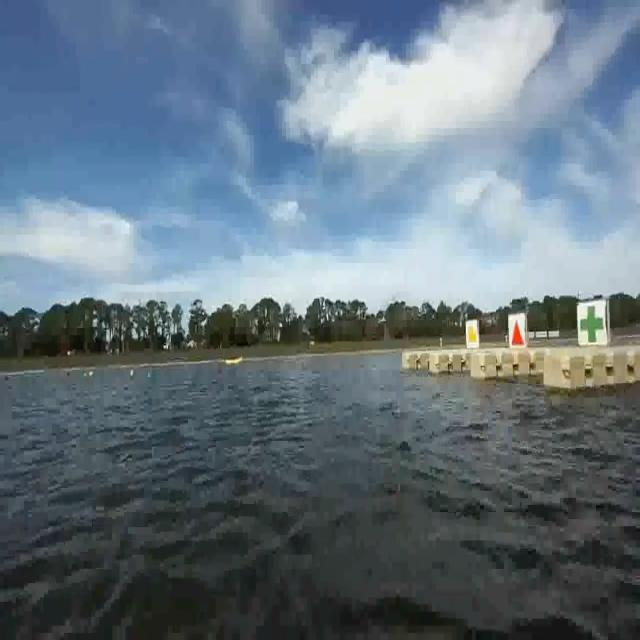red-dot: (508, 309, 527, 346)
yellow-duck: (574, 301, 606, 347), (466, 321, 480, 344)
